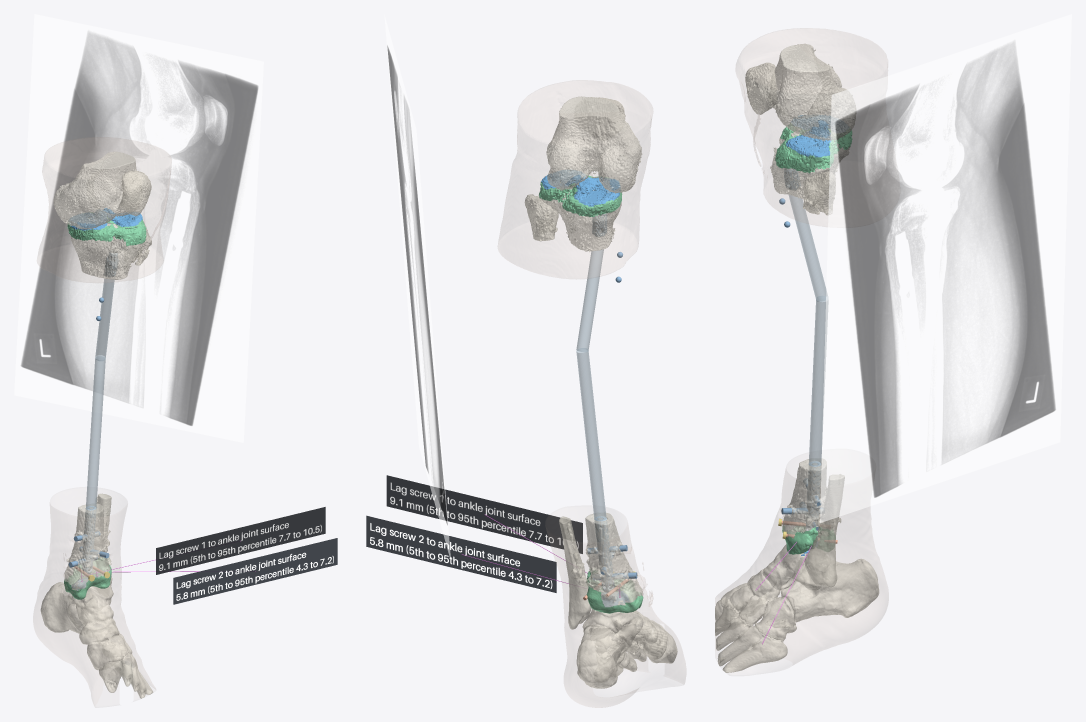
Rendered from 2024-02-20_091638_lat.glb.
The picture shows the model from 3 angles, left to right: view 1: azimuth 30°, elevation 25°; view 2: azimuth 150°, elevation 25°; view 3: azimuth 270°, elevation 25°; orthographic projection. The views are drawn at different scales.
Parts seen in each view (by area): view 1: radiograph, skin, tibia, implant_8, implant_16, tarsal, femur, nail_modelled, metatarsal, capsule_band_knee, patella, articular_surface_knee (+3 smaller); view 2: skin, radiograph, femur, implant_17, implant_9, tibia, tarsal, nail_modelled, fibula, articular_surface_knee, capsule_band_knee, nail (+2 smaller); view 3: radiograph, skin, tarsal, femur, tibia, fibula, nail_modelled, metatarsal, capsule_band_knee, articular_surface_knee, patella, nail (+1 smaller).
Boxes of the visible parts, bbox=[...] form: radiograph: bbox=[14, 14, 263, 442]; skin: bbox=[33, 137, 171, 705]; tibia: bbox=[64, 217, 144, 599]; implant_8: bbox=[156, 507, 325, 574]; implant_16: bbox=[173, 538, 337, 604]; tarsal: bbox=[40, 579, 132, 670]; femur: bbox=[53, 151, 136, 229]; nail_modelled: bbox=[86, 278, 114, 509]; metatarsal: bbox=[99, 652, 153, 698]; capsule_band_knee: bbox=[67, 217, 146, 246]; patella: bbox=[119, 170, 151, 216]; articular_surface_knee: bbox=[69, 208, 142, 230]; skin: bbox=[498, 80, 685, 707]; radiograph: bbox=[384, 15, 450, 560]; femur: bbox=[546, 96, 642, 193]; implant_17: bbox=[366, 515, 556, 592]; implant_9: bbox=[386, 475, 582, 553]; tibia: bbox=[538, 177, 643, 612]; tarsal: bbox=[576, 592, 667, 688]; nail_modelled: bbox=[576, 249, 606, 521]; fibula: bbox=[524, 194, 591, 629]; articular_surface_knee: bbox=[541, 170, 620, 206]; capsule_band_knee: bbox=[539, 175, 622, 217]; nail: bbox=[592, 213, 614, 592]; radiograph: bbox=[820, 14, 1071, 522]; skin: bbox=[715, 28, 888, 664]; tarsal: bbox=[720, 544, 879, 640]; femur: bbox=[773, 43, 856, 141]; tibia: bbox=[770, 132, 849, 554]; fibula: bbox=[803, 171, 844, 587]; nail_modelled: bbox=[788, 194, 828, 466]; metatarsal: bbox=[715, 599, 787, 672]; capsule_band_knee: bbox=[775, 123, 851, 173]; articular_surface_knee: bbox=[786, 115, 831, 157]; patella: bbox=[745, 62, 777, 114]; nail: bbox=[784, 168, 821, 530].
Size of the model in its own units: 0.2864 by 0.5885 by 0.2823.
15 materials, 3 textured.
